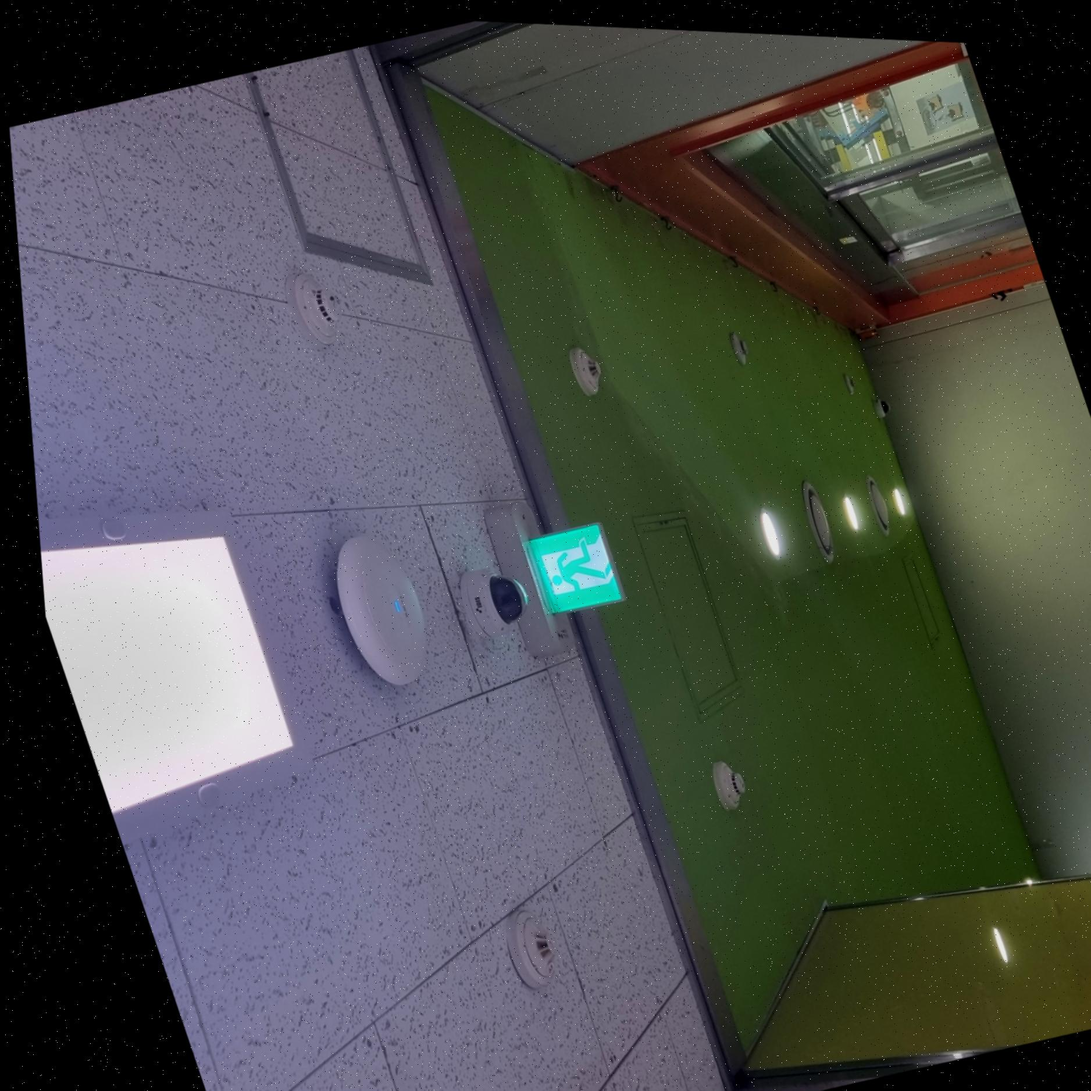emergency_exit: (522, 521, 626, 616)
